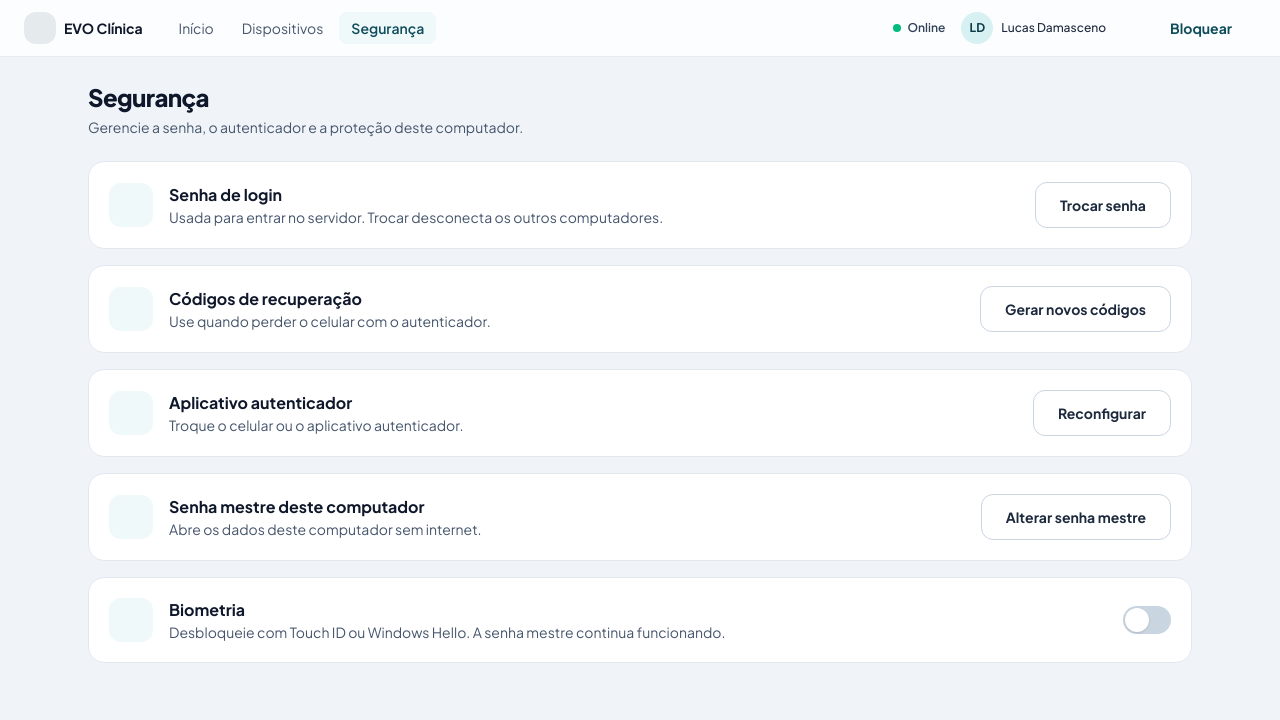
Test case: SegurancaTela › códigos de recuperação › gera os códigos, só permite concluir depois de marcar e os remove do DOM ao fechar
Step 1. Click the button "Gerar novos códigos" → coordinates (1076, 309), box [980,286,1171,332]
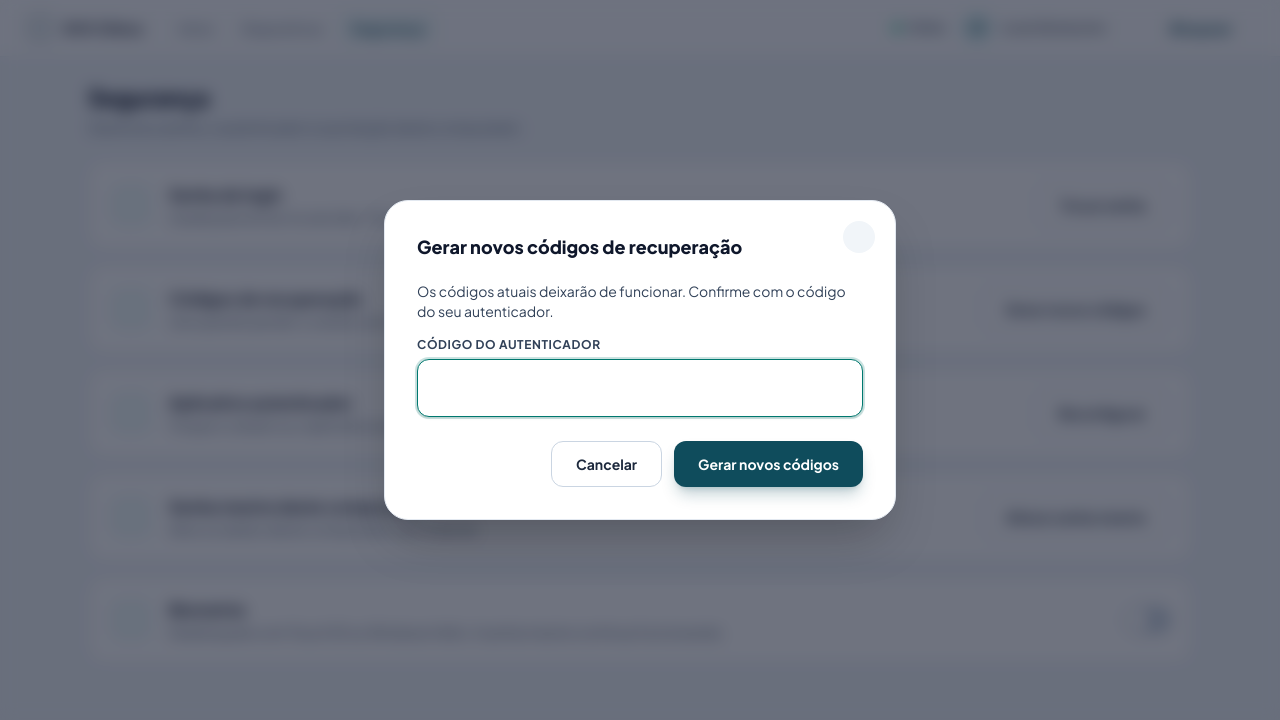
Step 2. Type "123456" into the field labelled "Código do autenticador" → coordinates (640, 388), box [417,359,863,417]
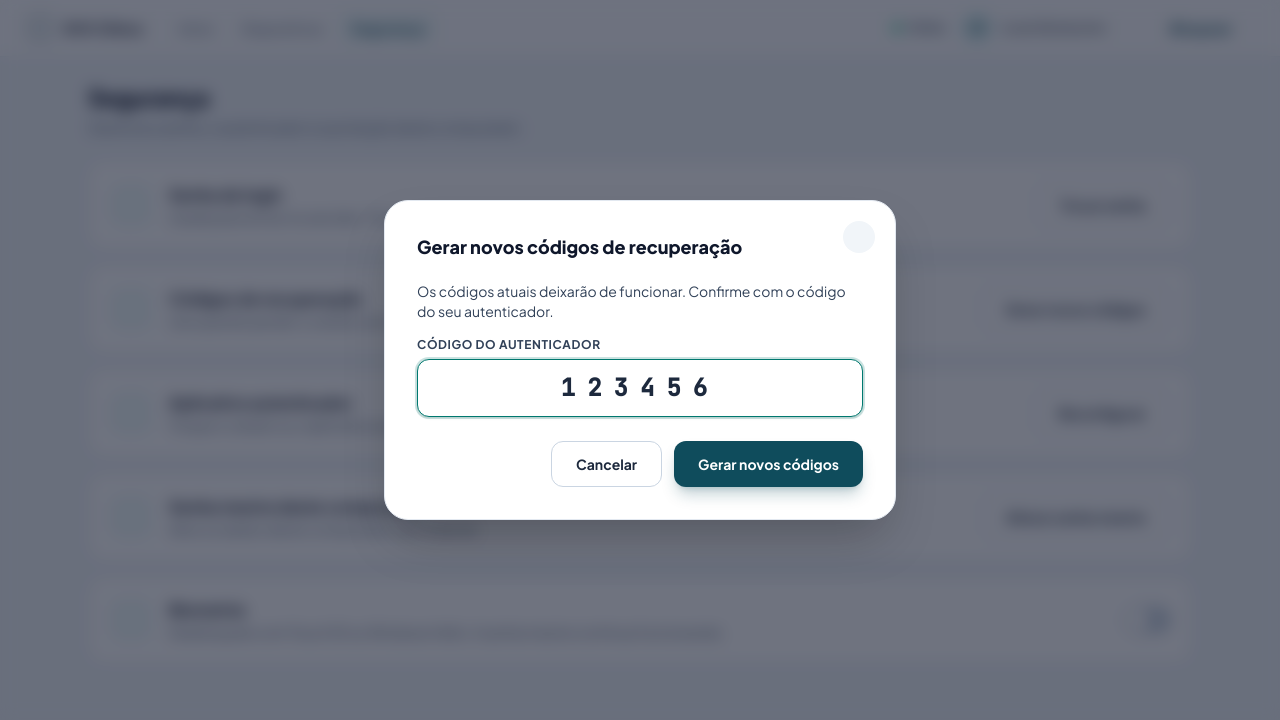
Step 3. Click the button "Gerar novos códigos" → coordinates (769, 464), box [674,441,863,487]
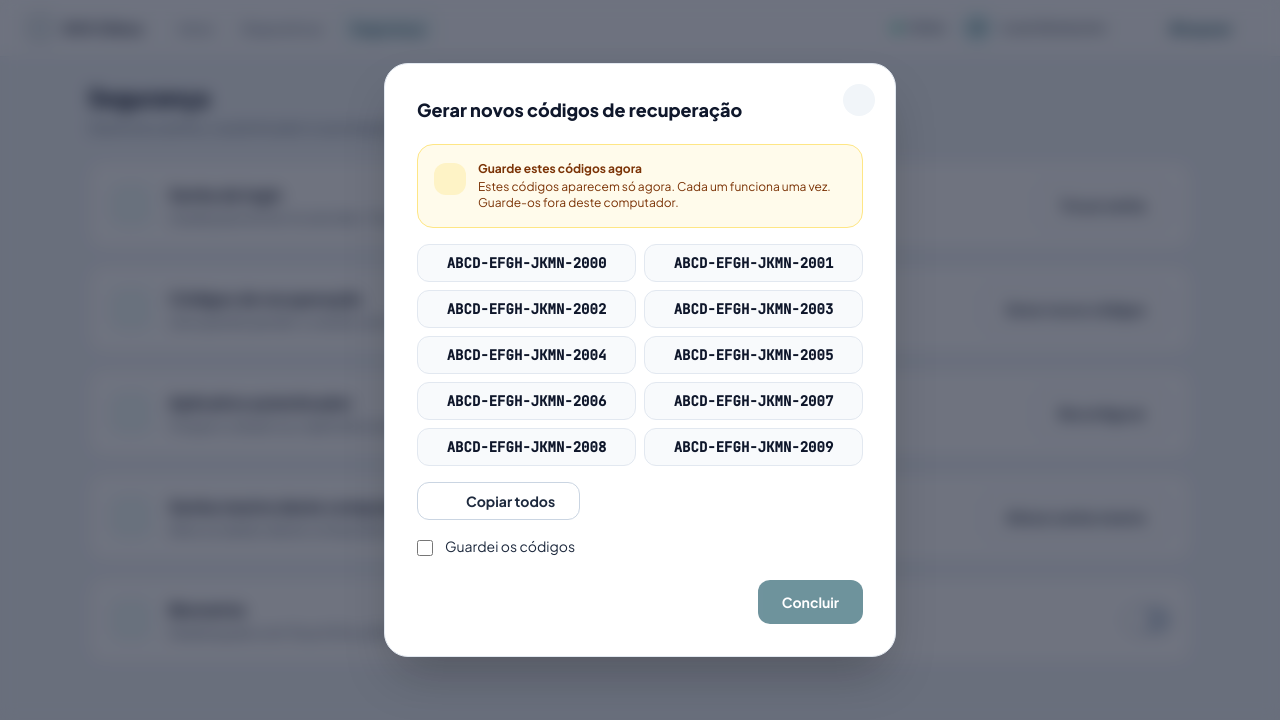
Now the list item "ABCD-EFGH-JKMN-2000" is shown, box [417,244,636,282]
Now the button "Concluir" is disabled, box [758,580,863,624]
Step 4. Press Escape
Now the dialog is shown, box [384,63,896,657]
Step 5. Click the checkbox labelled "Guardei os códigos" → coordinates (425, 548), box [417,540,433,556]
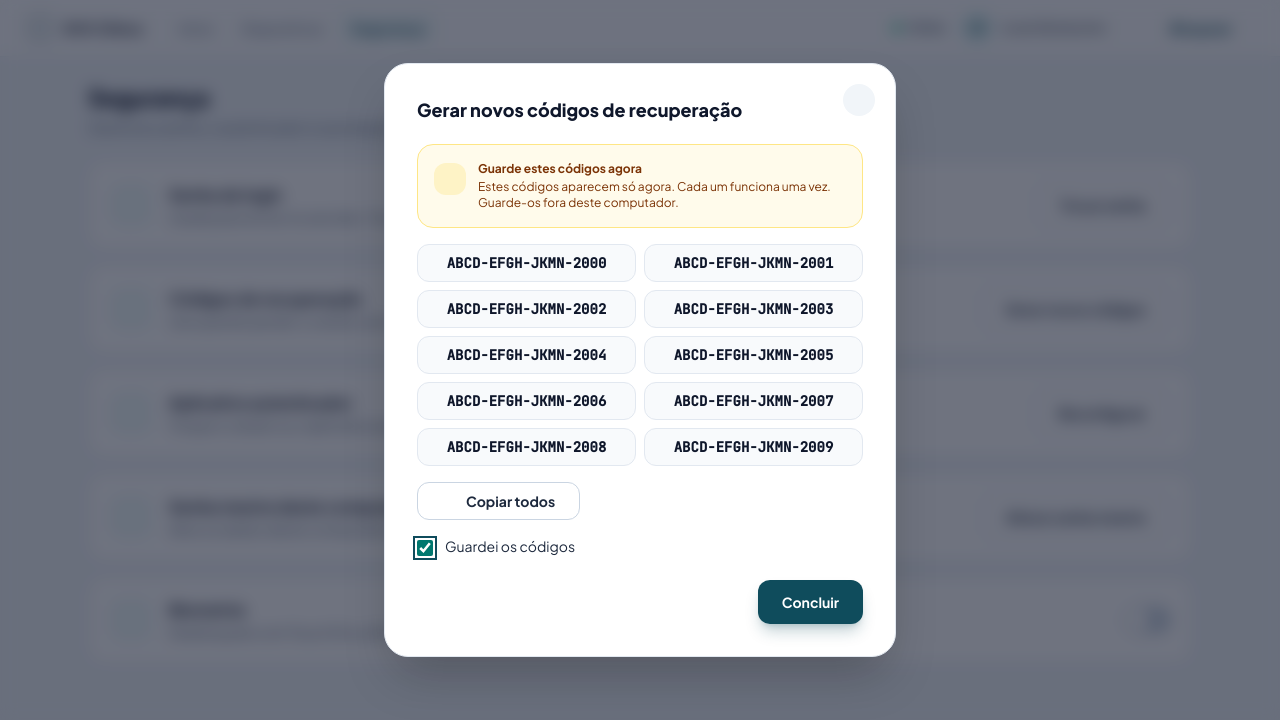
Now the button "Concluir" is enabled
Step 6. Click the button "Concluir" → coordinates (810, 602), box [758,580,863,624]
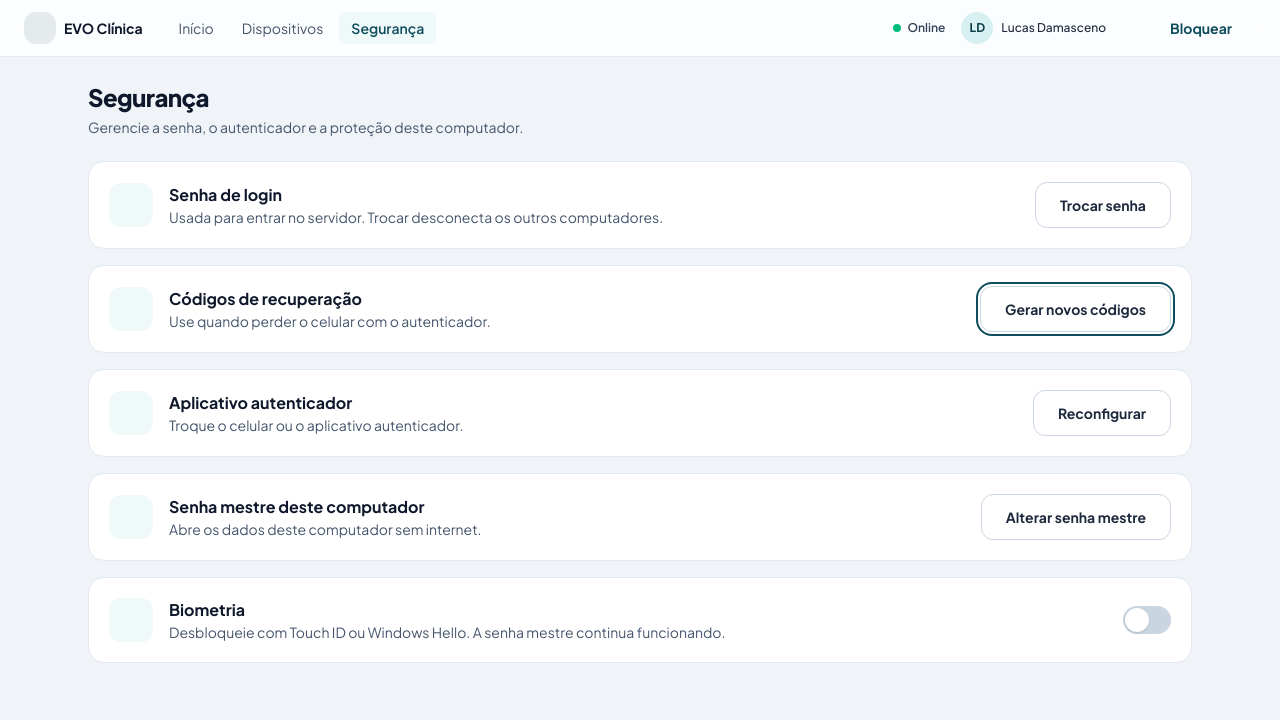
Now the dialog is gone
Now the text "ABCD-EFGH-JKMN-2000" is gone
